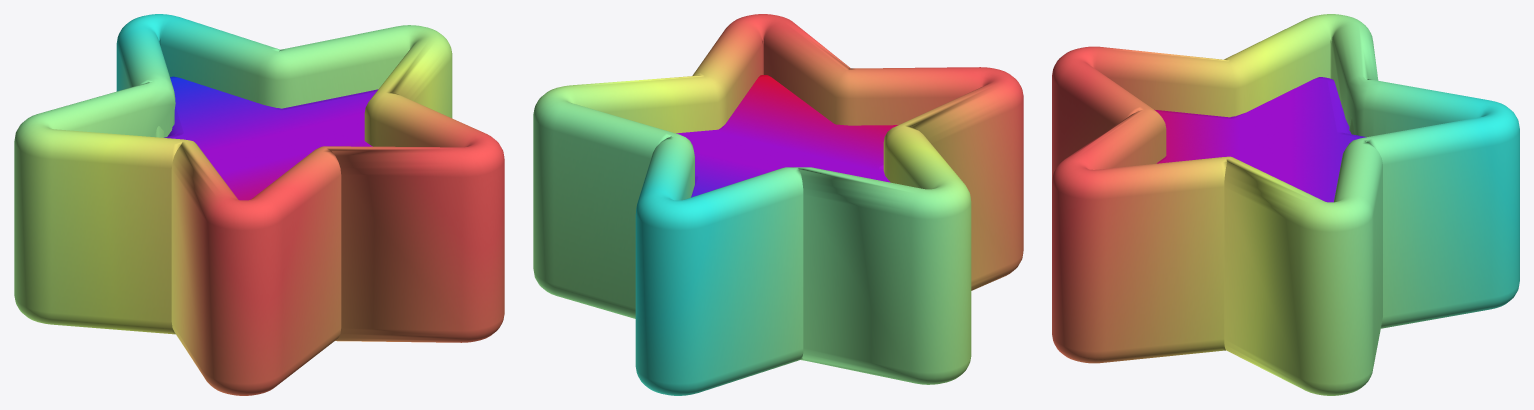
File: Particle-15.dae
3 renders of one model, left to right at view 1: azimuth 30°, elevation 25°; view 2: azimuth 150°, elevation 25°; view 3: azimuth 270°, elevation 25°, orthographic.
Parts seen in each view (by area): view 1: Particle; view 2: Particle; view 3: Particle.
Part boxes in pixels (left/top/right/bottom): Particle: left=14, top=14, right=504, bottom=395; Particle: left=533, top=14, right=1023, bottom=395; Particle: left=1052, top=14, right=1519, bottom=395.
Size of the model in its own units: 0.1396 by 0.06 by 0.1339.
2 materials, 2 textured.
